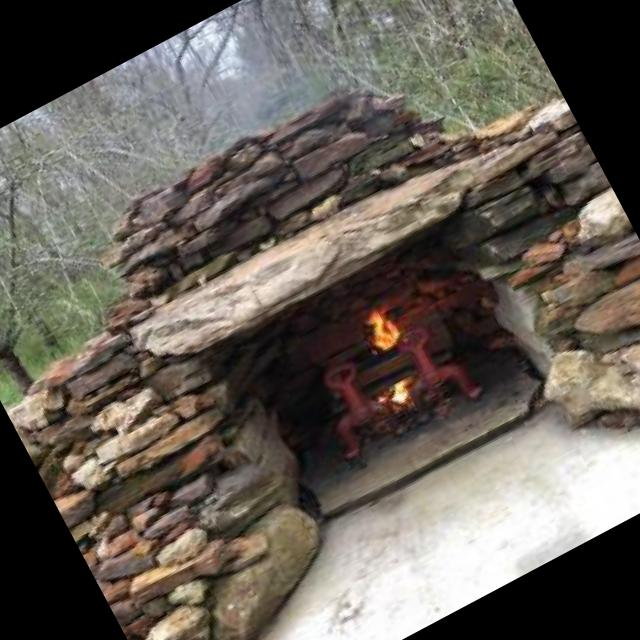fire: (341, 282, 446, 403)
